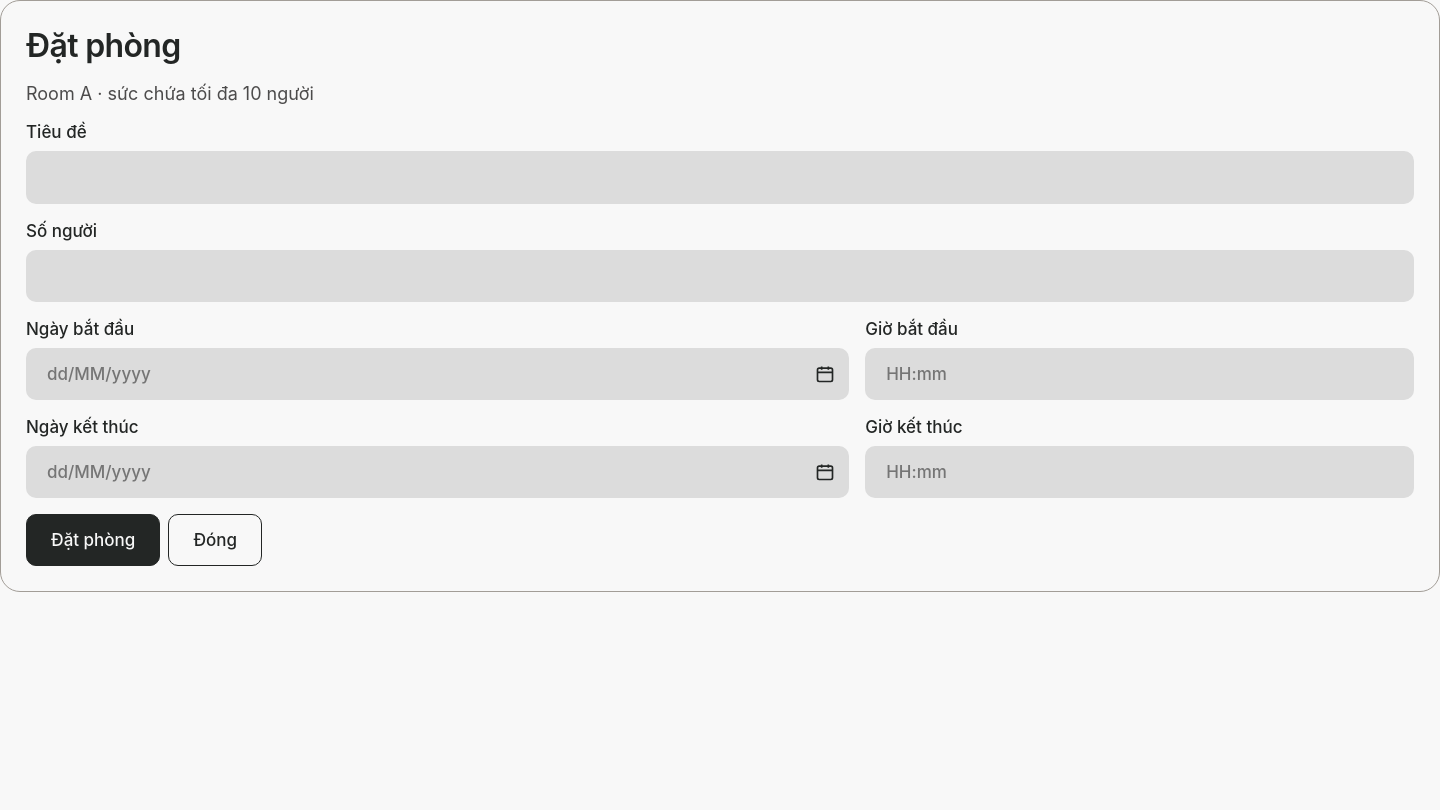
Test: BookingForm: đặt mới (A3) › mã 94 hiện đúng thông báo
Type "Họp" into the field labelled "Tiêu đề" at (720, 178), box [26,152,1414,204]
Type "5" into the field labelled "Số người" at (720, 276), box [26,250,1414,302]
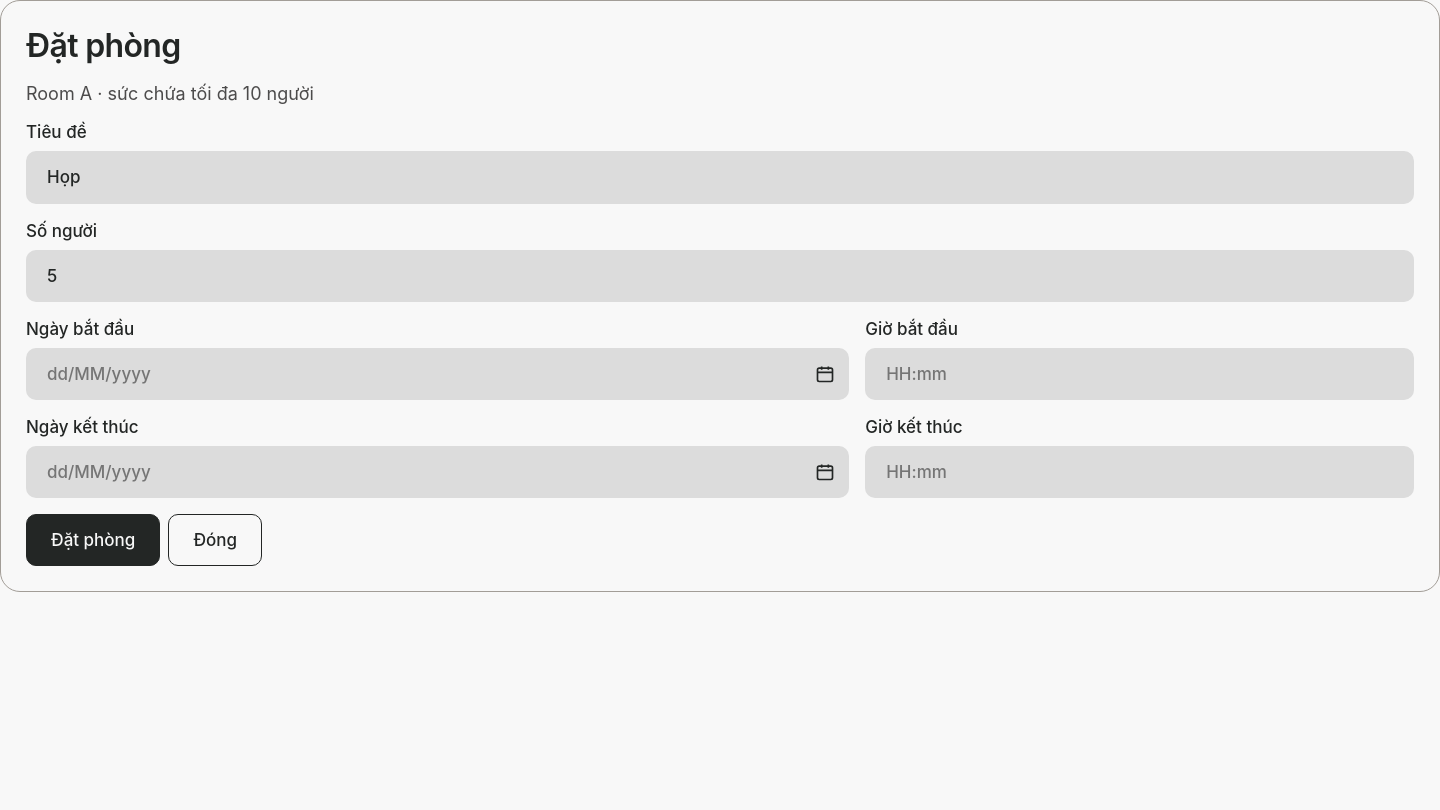
Type "22/10/2026" into the field labelled "Ngày bắt đầu" at (438, 374), box [26,348,849,400]
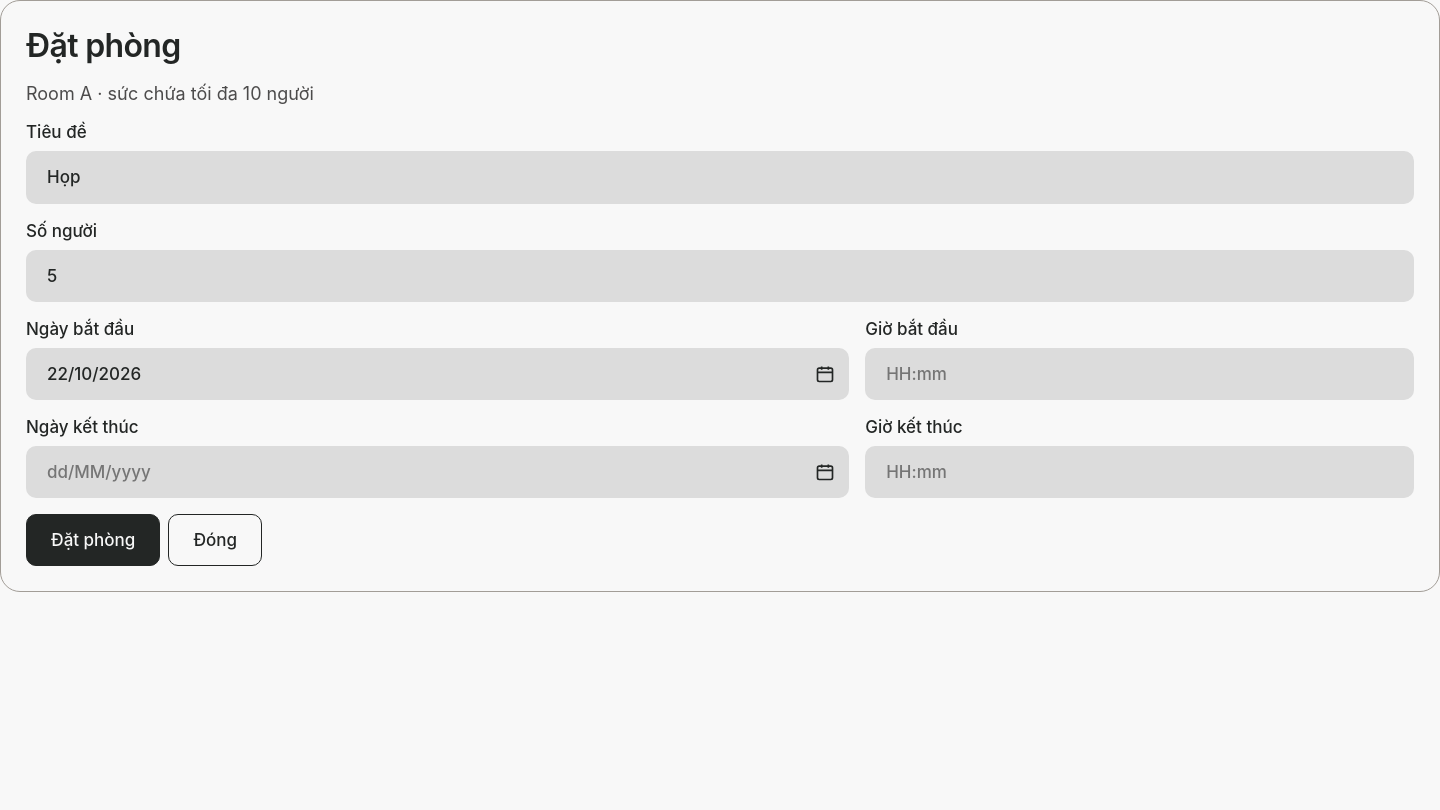
Type "09:00" into the field labelled "Giờ bắt đầu" at (1140, 374), box [865,348,1414,400]
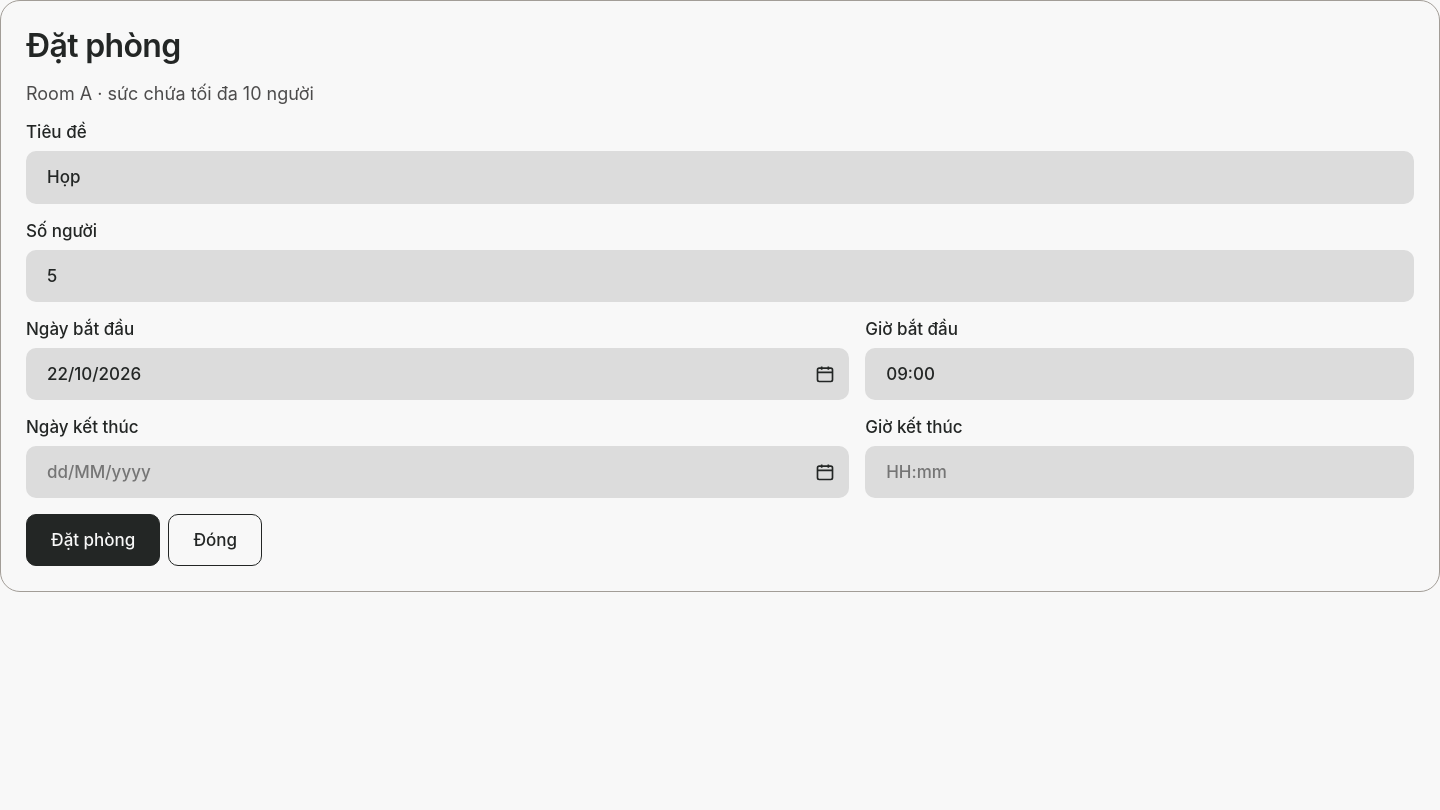
Type "22/10/2026" into the field labelled "Ngày kết thúc" at (438, 472), box [26,446,849,498]
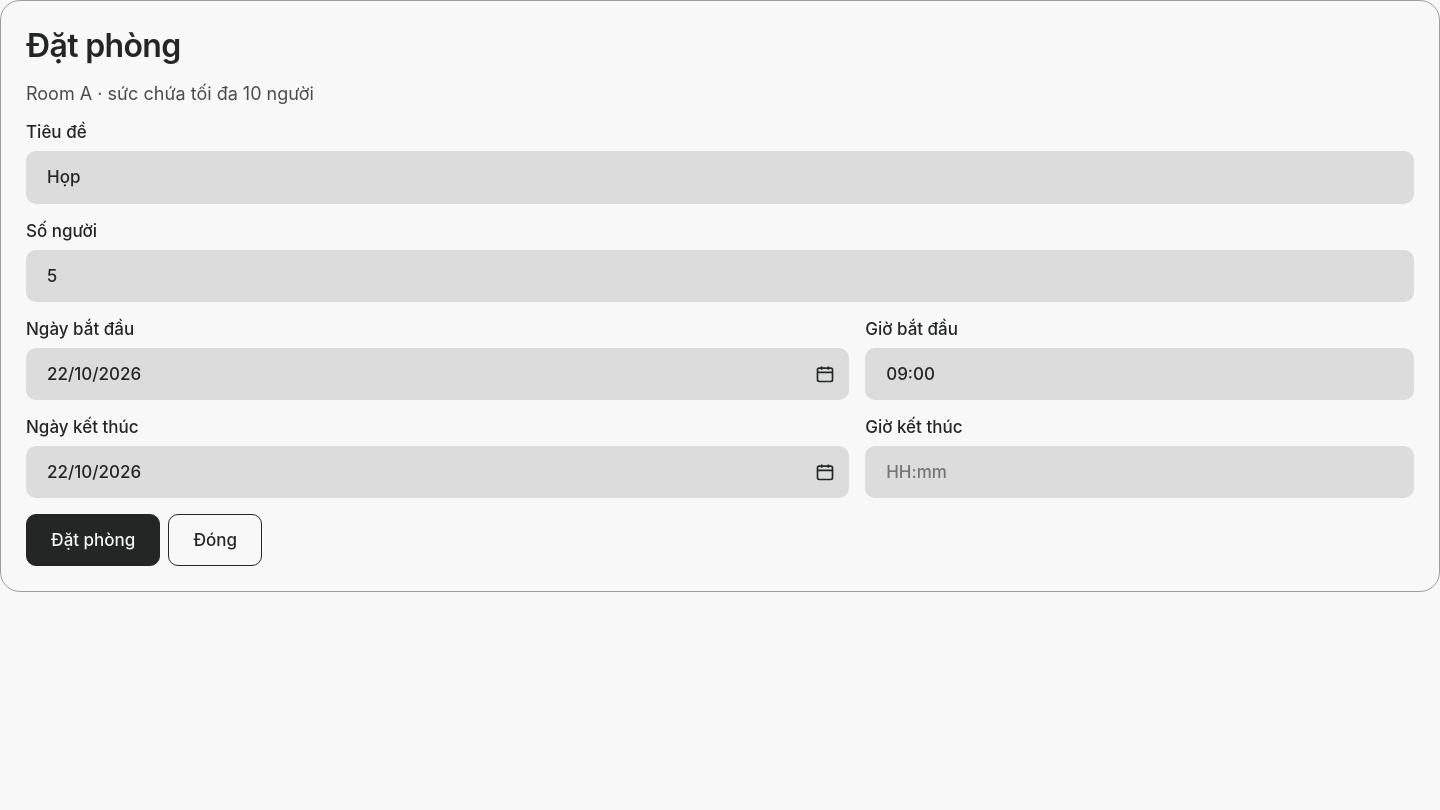
Type "10:00" into the field labelled "Giờ kết thúc" at (1140, 472), box [865,446,1414,498]
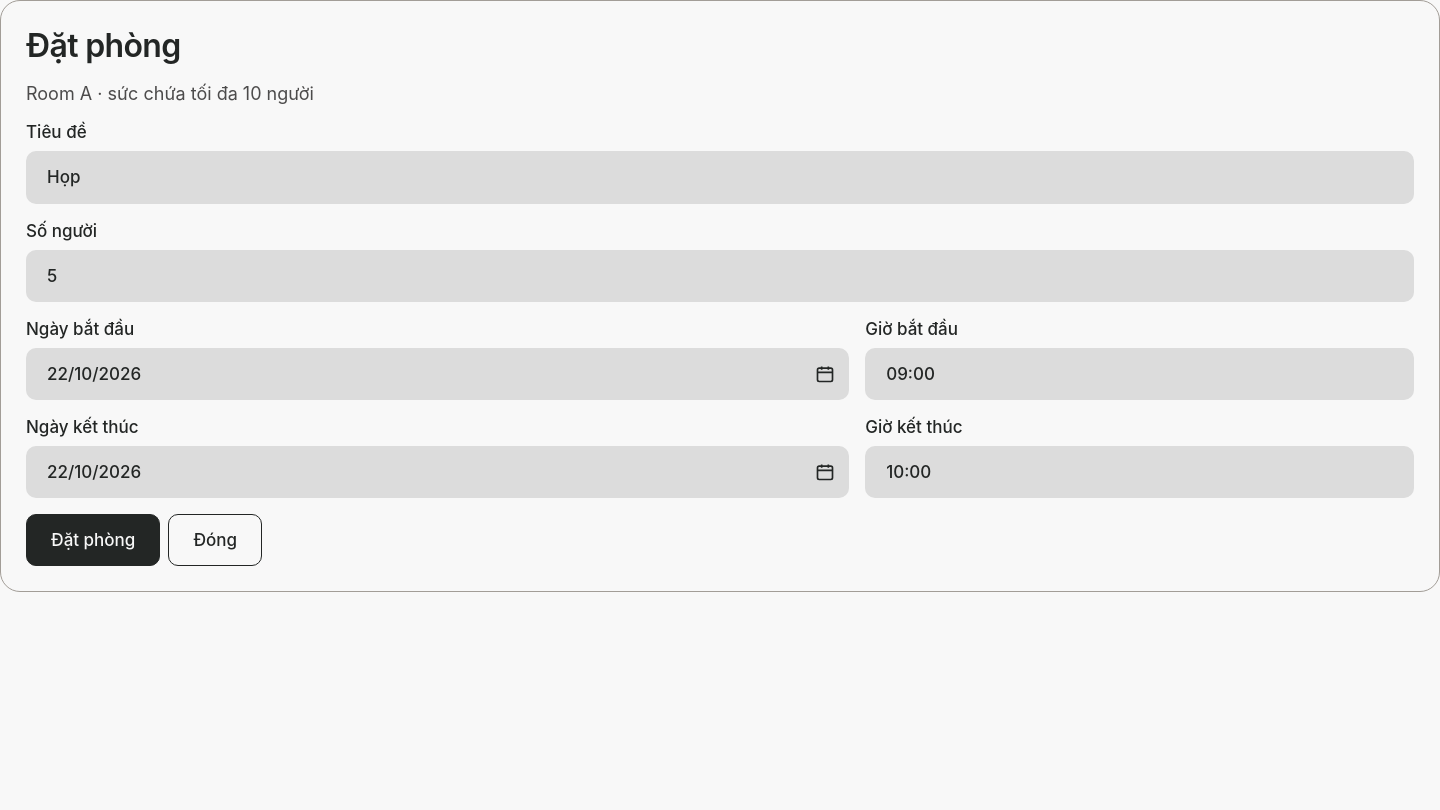
Click the button "Đặt phòng" at (93, 540), box [26,514,160,566]
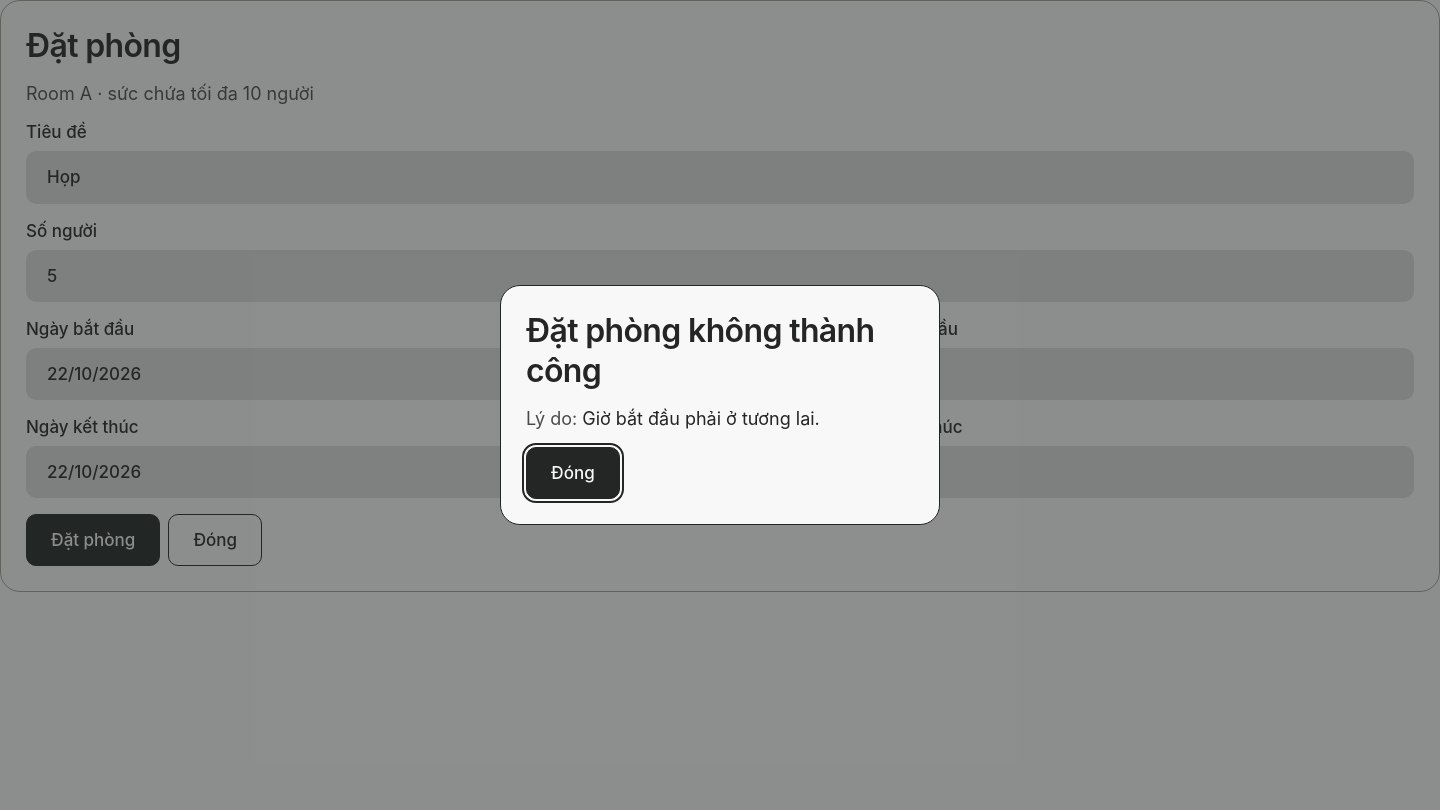
Expected: the dialog shows "Đặt phòng không thành công", [526,311,874,390]
Expected: the dialog shows "Giờ bắt đầu phải ở tương lai.", [582,408,820,429]
